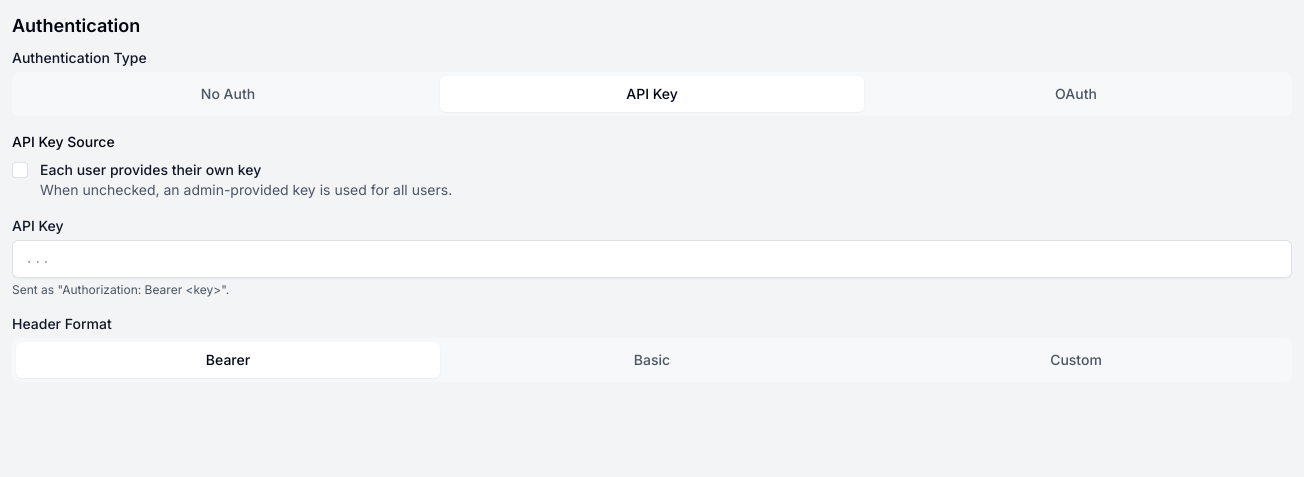
it: AuthenticationConfig › API Key hint follows the selected header format
expect the text "Sent as \"Authorization: Bearer <key>\"." is shown: met, box [12,282,229,297]
Step 1. Click the button "Basic" → coordinates (652, 360), box [440,342,864,378]
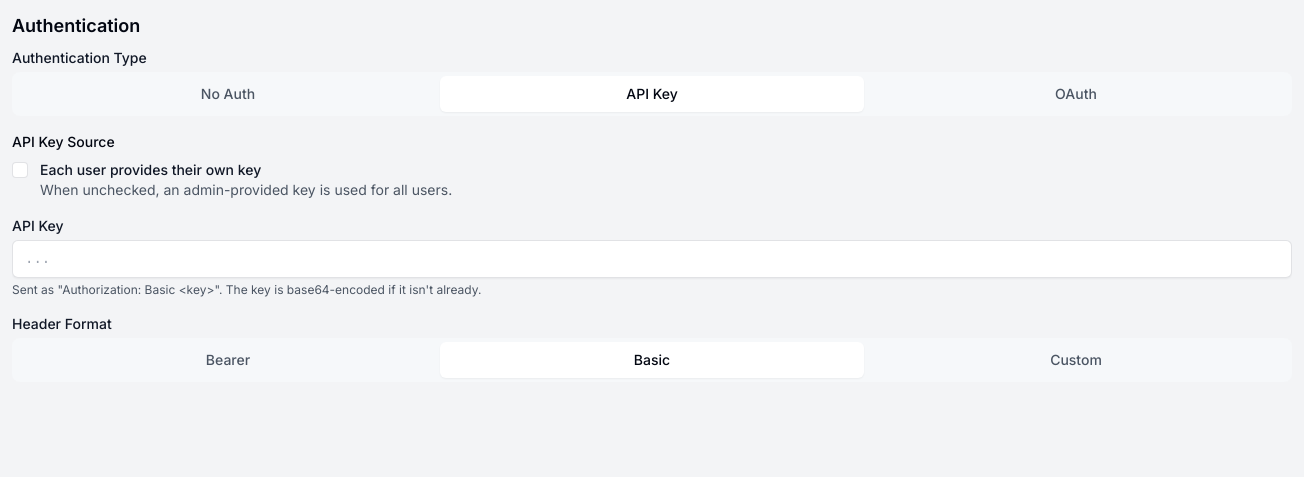
expect the text "Sent as \"Authorization: Basic <key>\". The key is base64-encoded if it isn't already." is shown: met, box [12,282,481,297]
expect the text "Sent as \"Authorization: Bearer <key>\"." is gone: met
Step 2. Click the button "Custom" → coordinates (1076, 360), box [864,342,1288,378]
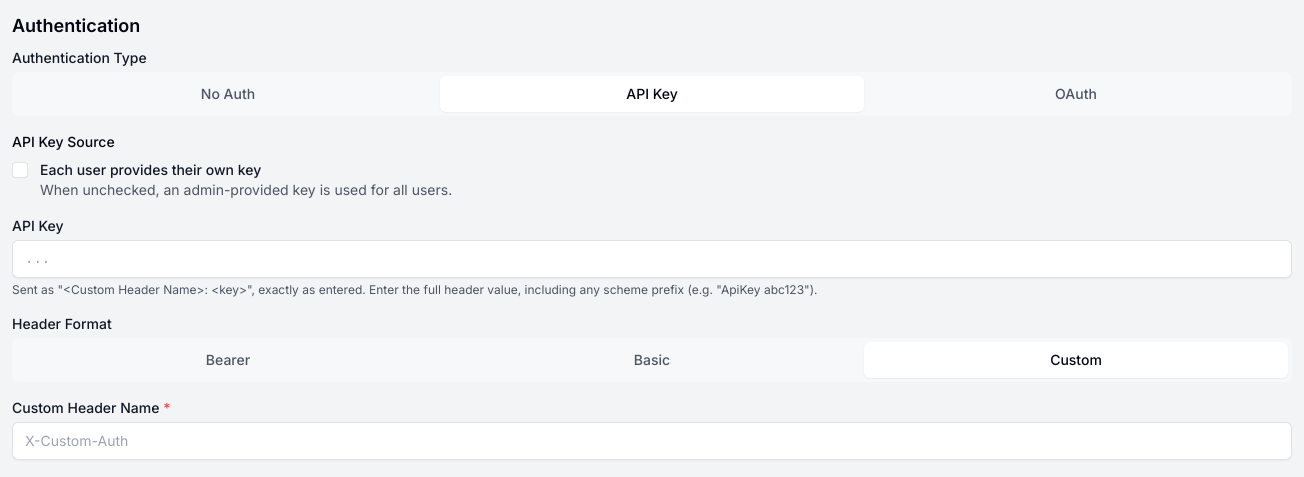
expect the text "Sent as \"<Custom Header Name>: <key>\", exactly as entered. Enter the full header value, including any scheme prefix (e.g" is shown: met, box [12,282,818,297]
expect the text "Sent as \"Authorization: Basic <key>\". The key is base64-encoded if it isn't already." is gone: met
